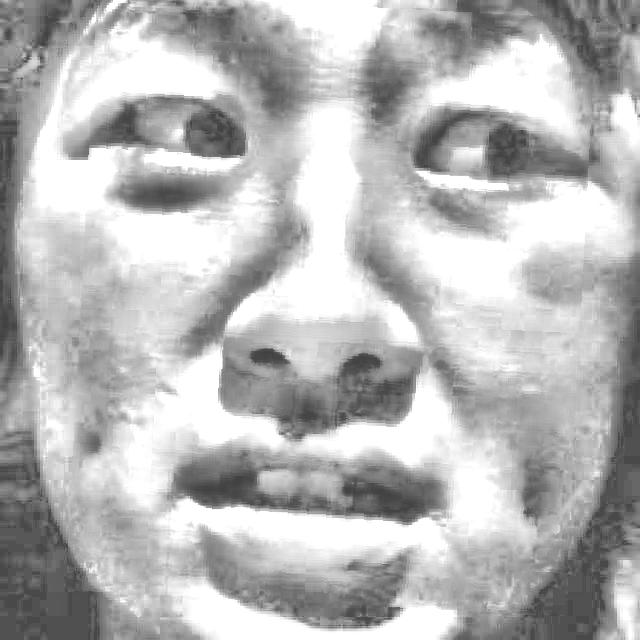fear: (73, 0, 588, 609)
